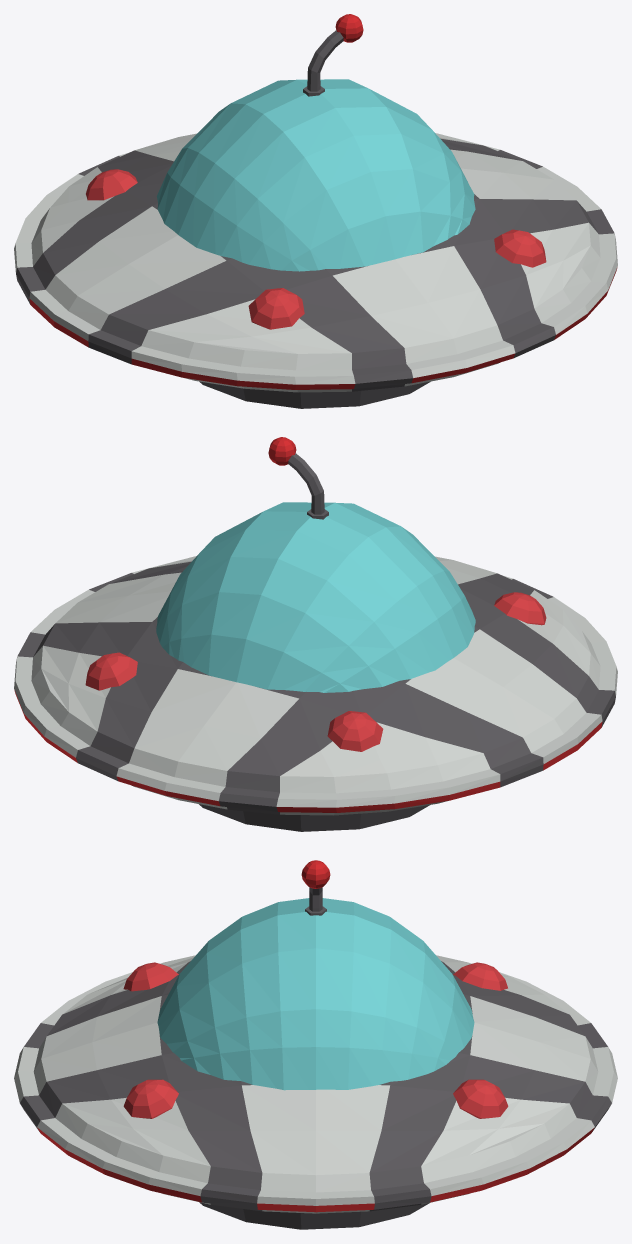
Rendered from ufo.fbx.
3 views of the same model, one above another, from view 1: azimuth 30°, elevation 25°; view 2: azimuth 150°, elevation 25°; view 3: azimuth 270°, elevation 25° (orthographic).
Visible parts, largest first — view 1: Cylinder.007; view 2: Cylinder.007; view 3: Cylinder.007.
Boxes of the visible parts, x1=… form: Cylinder.007: x1=14, y1=14, x2=617, y2=408; Cylinder.007: x1=14, y1=437, x2=617, y2=831; Cylinder.007: x1=14, y1=860, x2=617, y2=1229.
Size of the model in its own units: 41.71 by 25.77 by 41.71.
